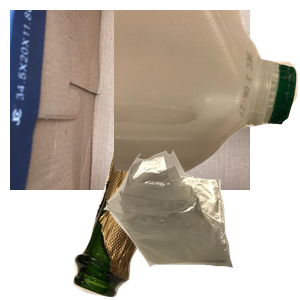cardboard: (10, 10, 250, 190)
glass: (71, 152, 260, 300)
plastic: (114, 10, 300, 179)
trash: (101, 148, 300, 300)
